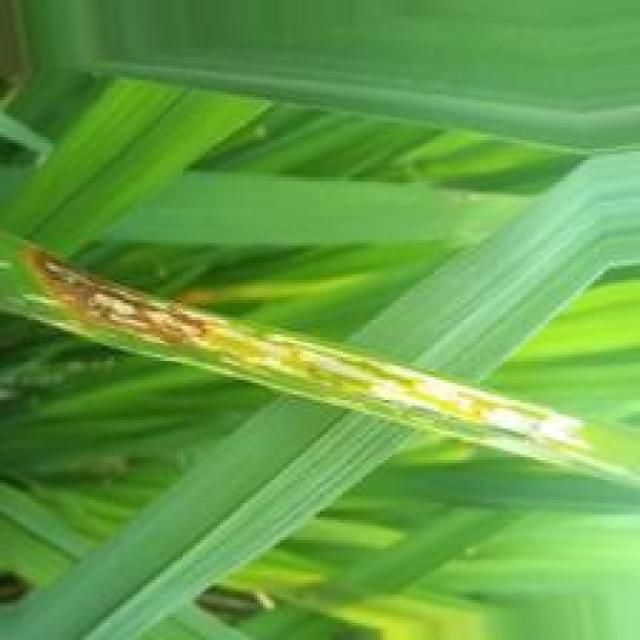Rice_Hispa: (26, 242, 626, 474)
